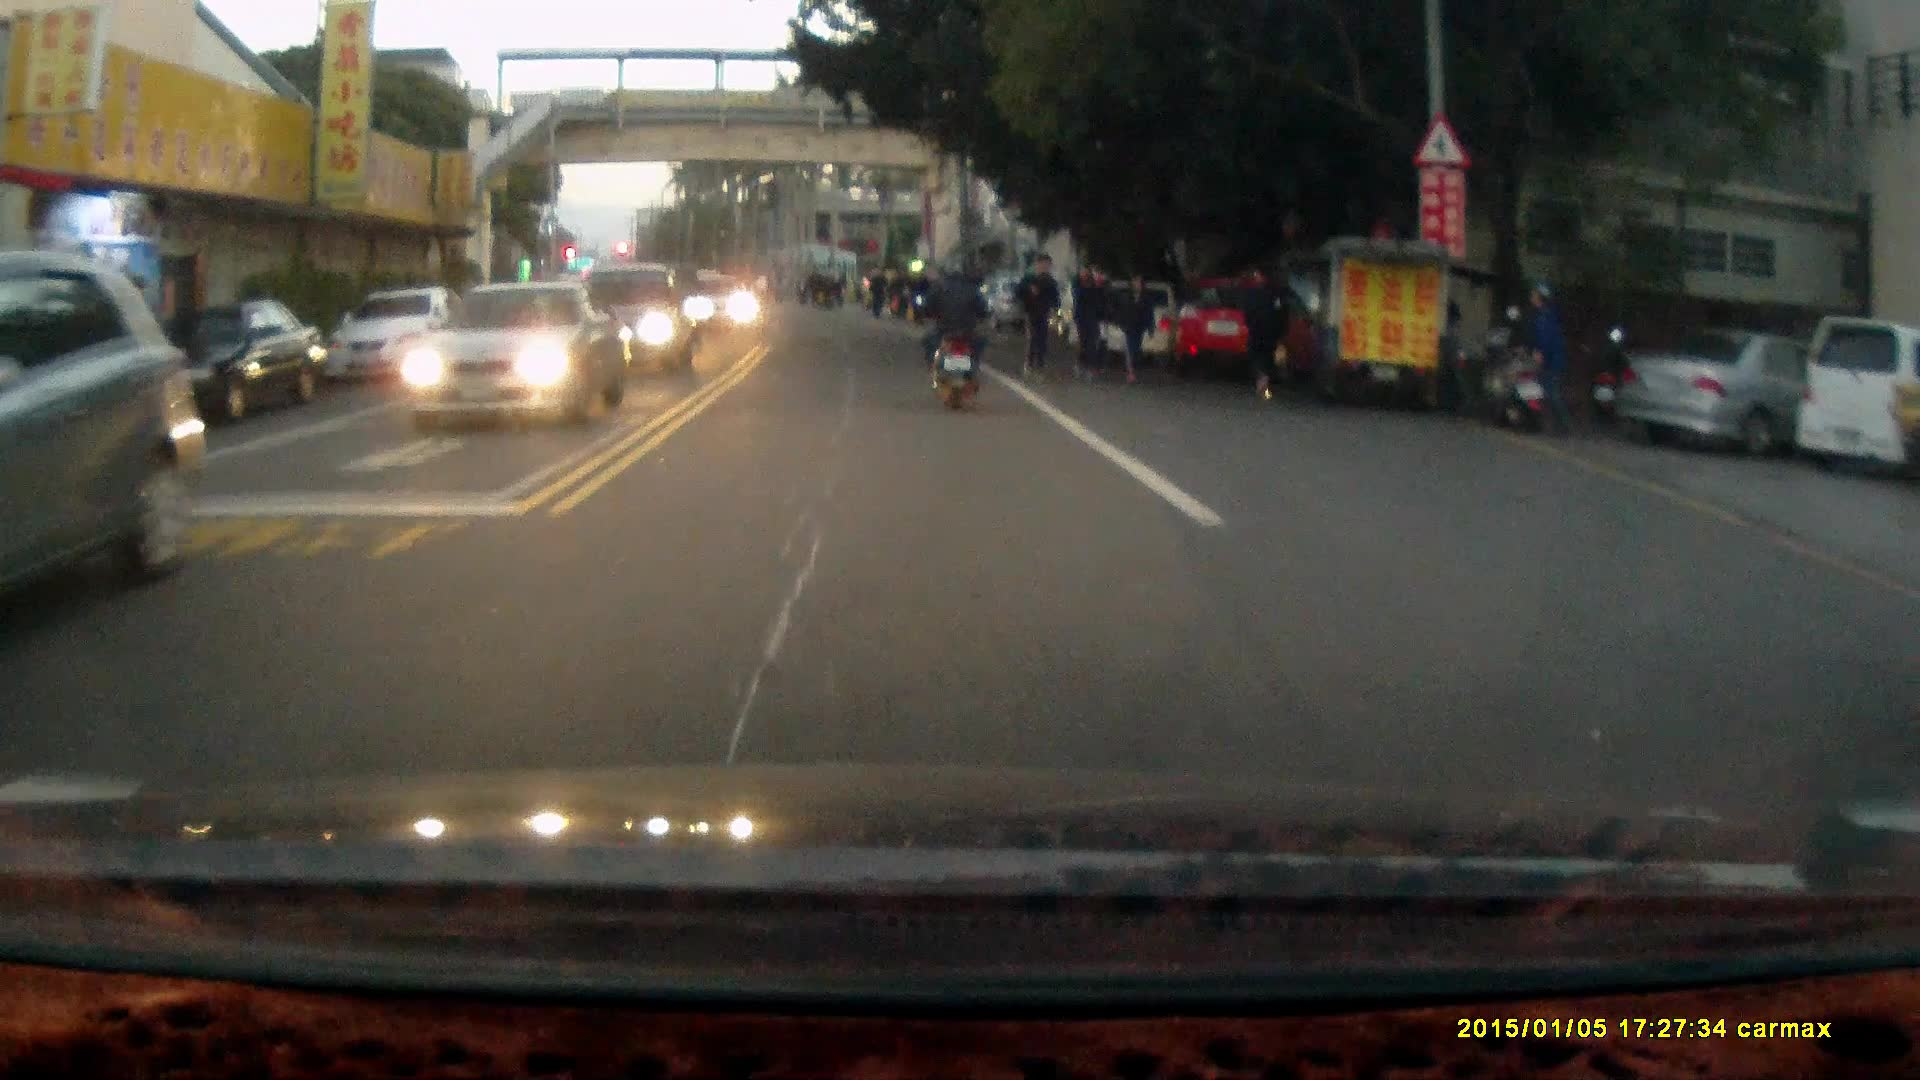pedestrian: (1233, 259, 1292, 407), (1516, 282, 1570, 438), (1011, 252, 1066, 384), (1114, 265, 1156, 387), (1065, 258, 1102, 386)
rider: (913, 252, 993, 414)
vehicle: (1, 257, 207, 648), (1617, 326, 1912, 462), (402, 287, 626, 432), (1170, 284, 1322, 390), (578, 268, 699, 382)
